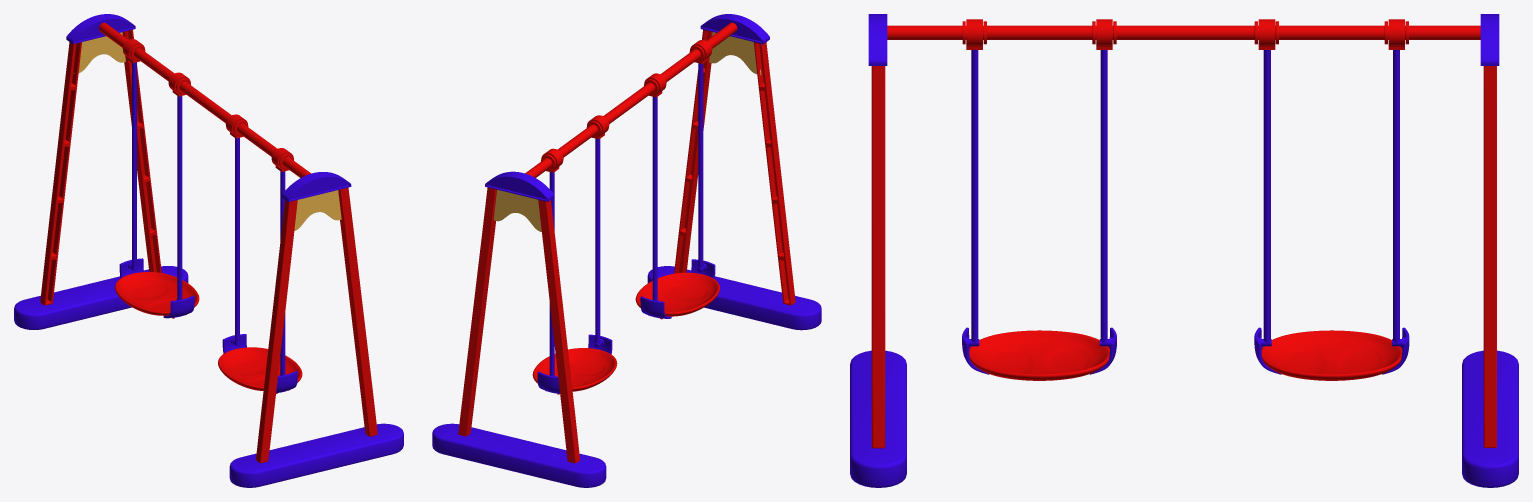
The model's file is swing.fbx.
The picture shows the model from 3 angles, left to right: view 1: azimuth 30°, elevation 25°; view 2: azimuth 150°, elevation 25°; view 3: azimuth 270°, elevation 25°; orthographic projection. The views are drawn at different scales.
Visible parts, largest first — view 1: poles, holder, top_pole, sit_2, side_top, Subdivision_Surface_1_2, dcr, sit, Subdivision_Surface_1, swing, Subdivision_Surface_2, Subdivision_Surface; view 2: poles, holder, top_pole, Subdivision_Surface_1, sit, side_top, dcr, sit_2, Subdivision_Surface_1_2, swing, Subdivision_Surface, Subdivision_Surface_2; view 3: holder, poles, top_pole, sit_2, sit, Subdivision_Surface_1, Subdivision_Surface_1_2, swing, side_top.
Part boxes in pixels (bbox=[...]): poles: bbox=[40, 29, 377, 463]; holder: bbox=[14, 266, 403, 487]; top_pole: bbox=[99, 22, 310, 177]; sit_2: bbox=[115, 272, 199, 315]; side_top: bbox=[66, 14, 351, 201]; Subdivision_Surface_1_2: bbox=[130, 62, 182, 300]; dcr: bbox=[73, 32, 341, 230]; sit: bbox=[218, 347, 302, 390]; Subdivision_Surface_1: bbox=[233, 137, 285, 375]; swing: bbox=[123, 39, 293, 171]; Subdivision_Surface_2: bbox=[119, 258, 194, 318]; Subdivision_Surface: bbox=[222, 334, 297, 392]; poles: bbox=[458, 29, 795, 463]; holder: bbox=[432, 266, 821, 487]; top_pole: bbox=[525, 22, 737, 177]; Subdivision_Surface_1: bbox=[652, 63, 704, 300]; sit: bbox=[635, 272, 719, 316]; side_top: bbox=[485, 14, 769, 201]; dcr: bbox=[493, 32, 761, 231]; sit_2: bbox=[532, 348, 617, 391]; Subdivision_Surface_1_2: bbox=[549, 138, 601, 376]; swing: bbox=[541, 40, 711, 172]; Subdivision_Surface: bbox=[640, 259, 715, 318]; Subdivision_Surface_2: bbox=[537, 334, 612, 393]; holder: bbox=[850, 350, 1518, 487]; poles: bbox=[871, 66, 1496, 448]; top_pole: bbox=[887, 21, 1480, 44]; sit_2: bbox=[1261, 330, 1402, 380]; sit: bbox=[969, 330, 1109, 380]; Subdivision_Surface_1: bbox=[969, 50, 1109, 346]; Subdivision_Surface_1_2: bbox=[1261, 50, 1401, 346]; swing: bbox=[966, 19, 1404, 49]; side_top: bbox=[868, 14, 1499, 65].
Size of the model in its own units: 200 by 327 by 483.
